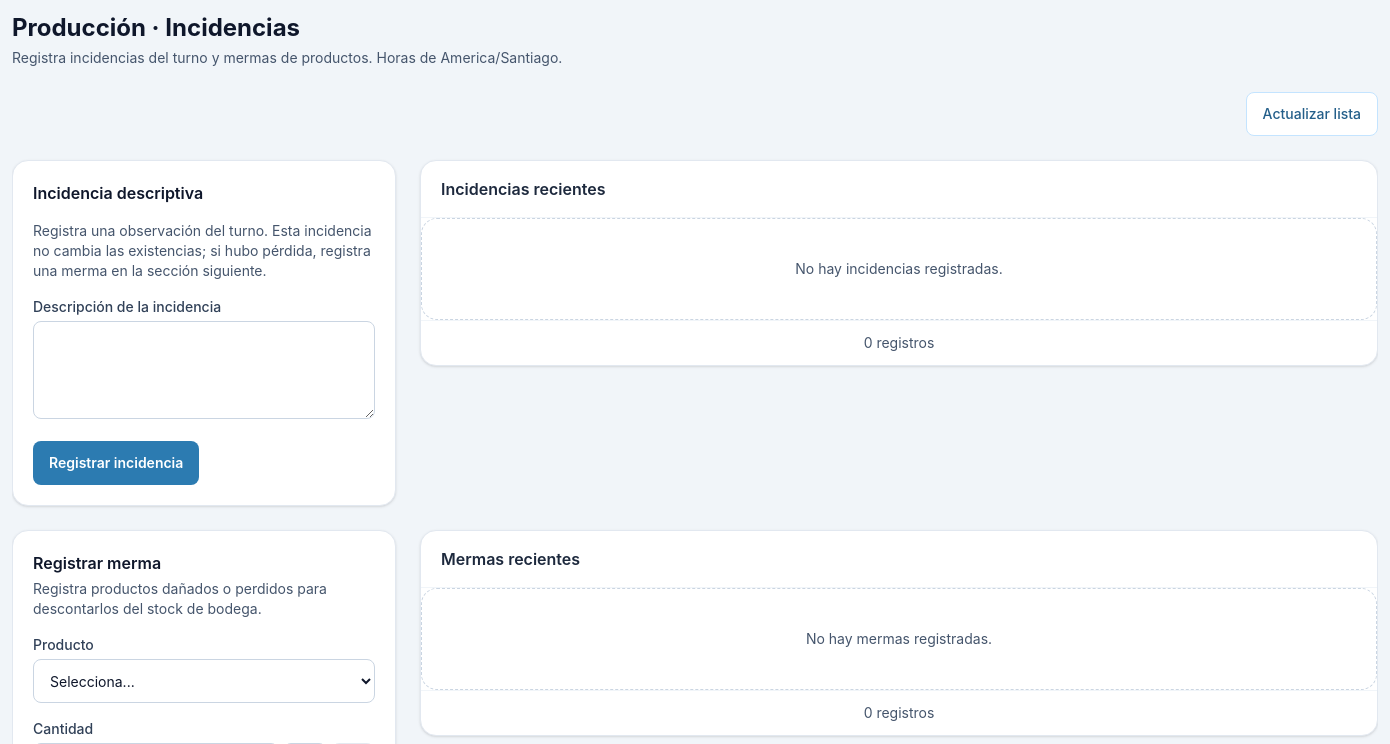
Test: UX-12 · fallo de incidencia usa Toast y conserva el formulario
Type "Filtro detenido" into the text box labelled "Descripción de la incidencia" at (204, 370), box [33,321,375,419]
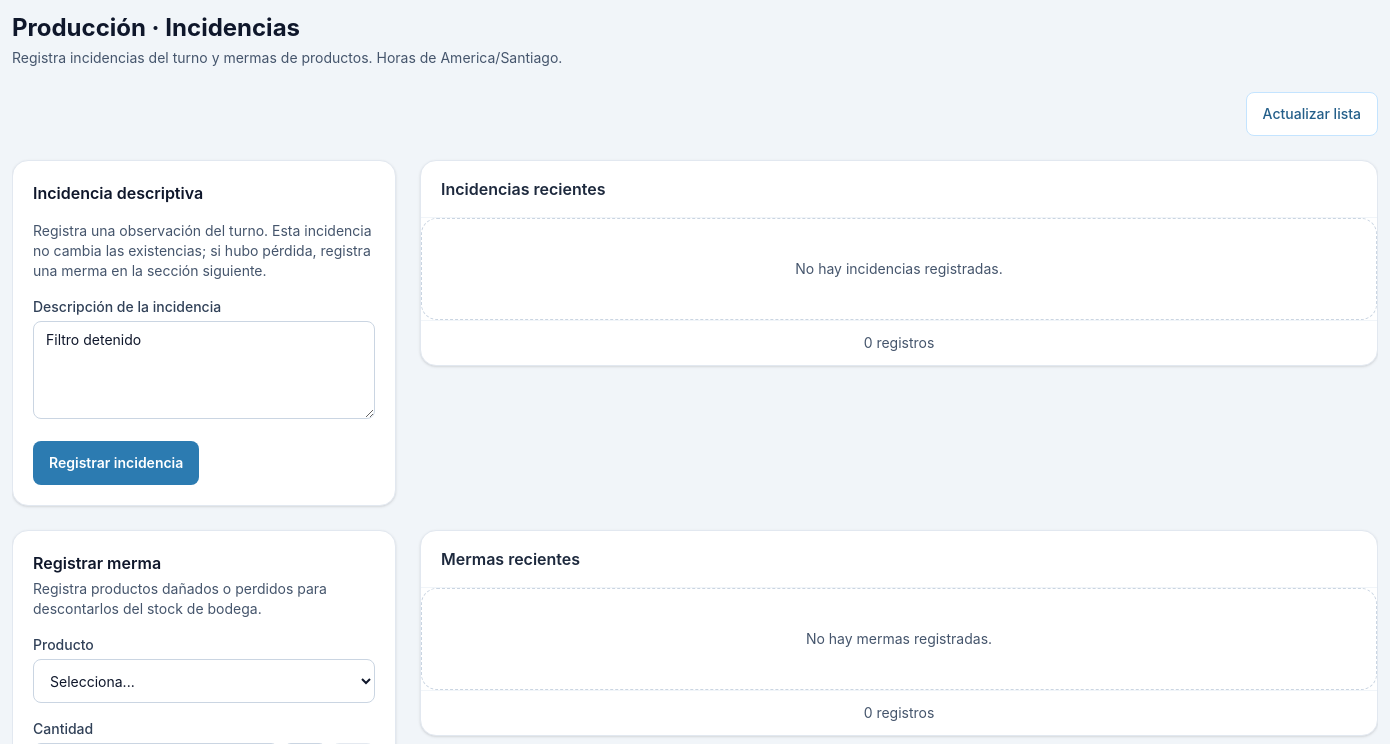
Click the button "Registrar incidencia" at (116, 463), box [33,441,199,485]
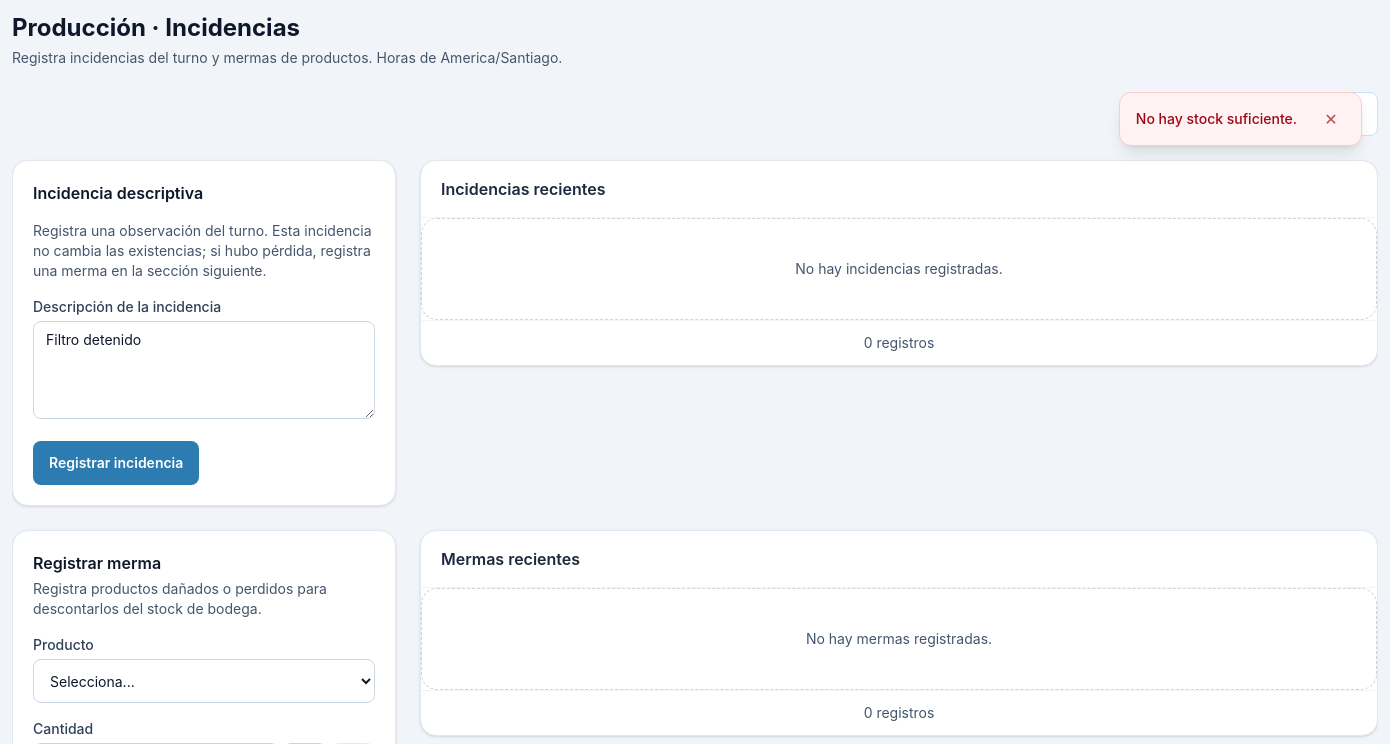
expect the message "No hay stock suficiente. ✕" is shown: met, box [1119,92,1362,146]
Click the button named "Cerrar notificación" at (1331, 119), box [1309,97,1353,141]
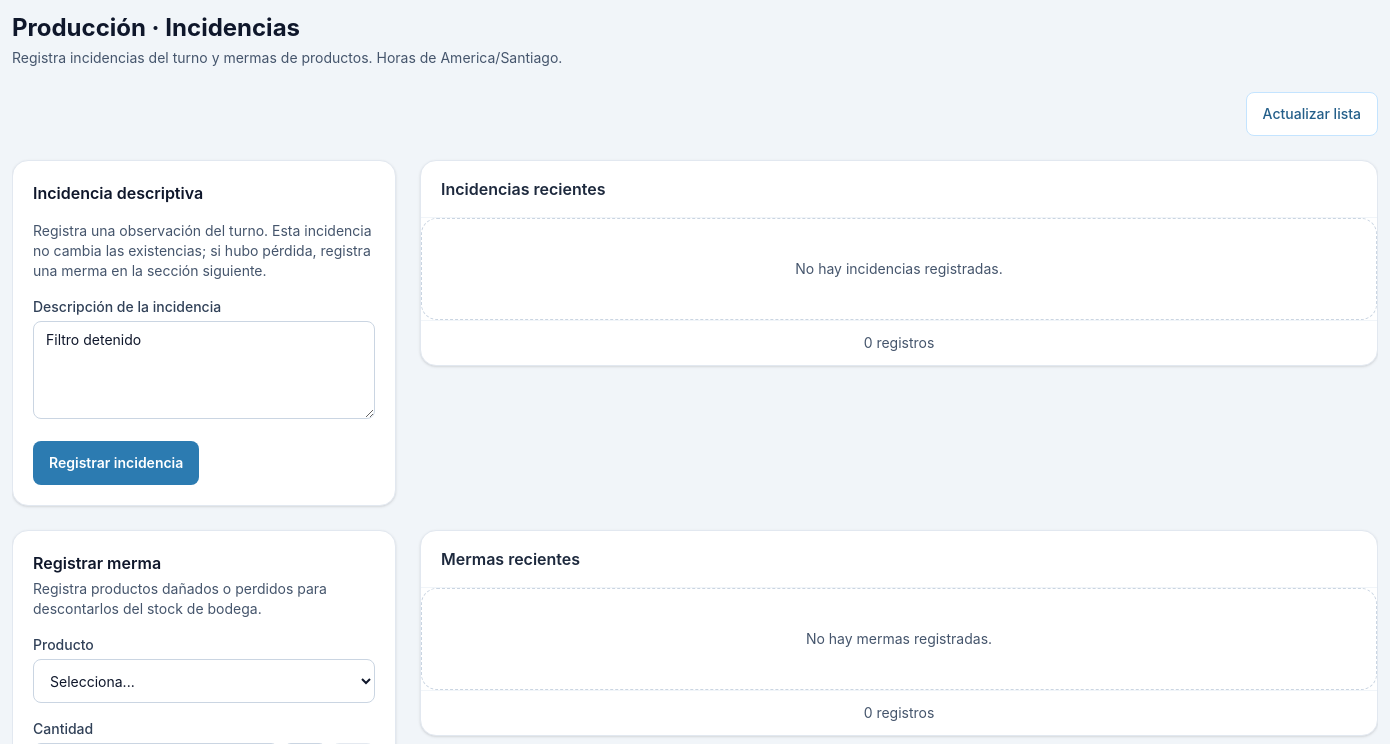
expect the message "No hay stock suficiente. ✕" is gone: met
